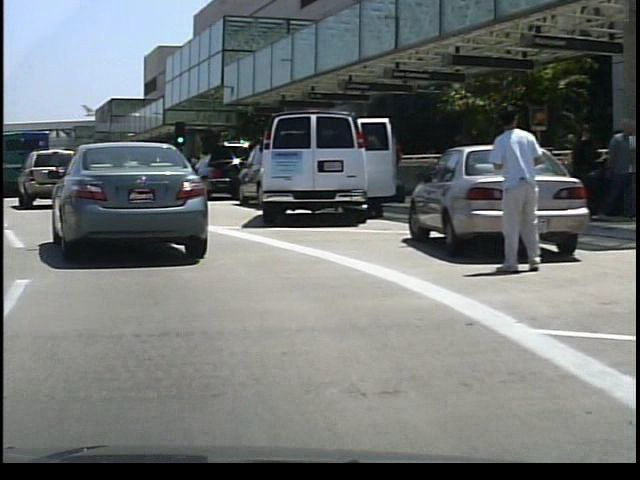person: (485, 103, 543, 276), (601, 116, 633, 221), (564, 118, 594, 223), (383, 130, 407, 203)
